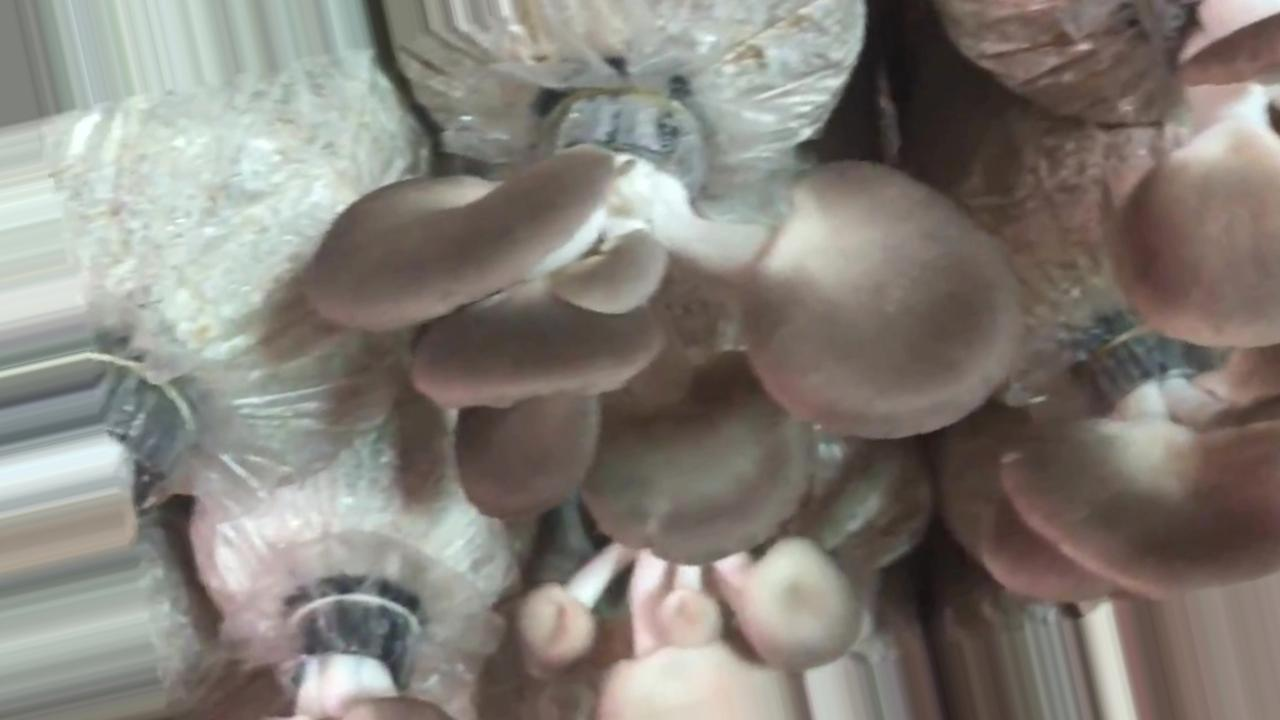nam: (302, 98, 1018, 564), (982, 330, 1280, 598), (522, 539, 859, 720), (1127, 2, 1280, 348)
